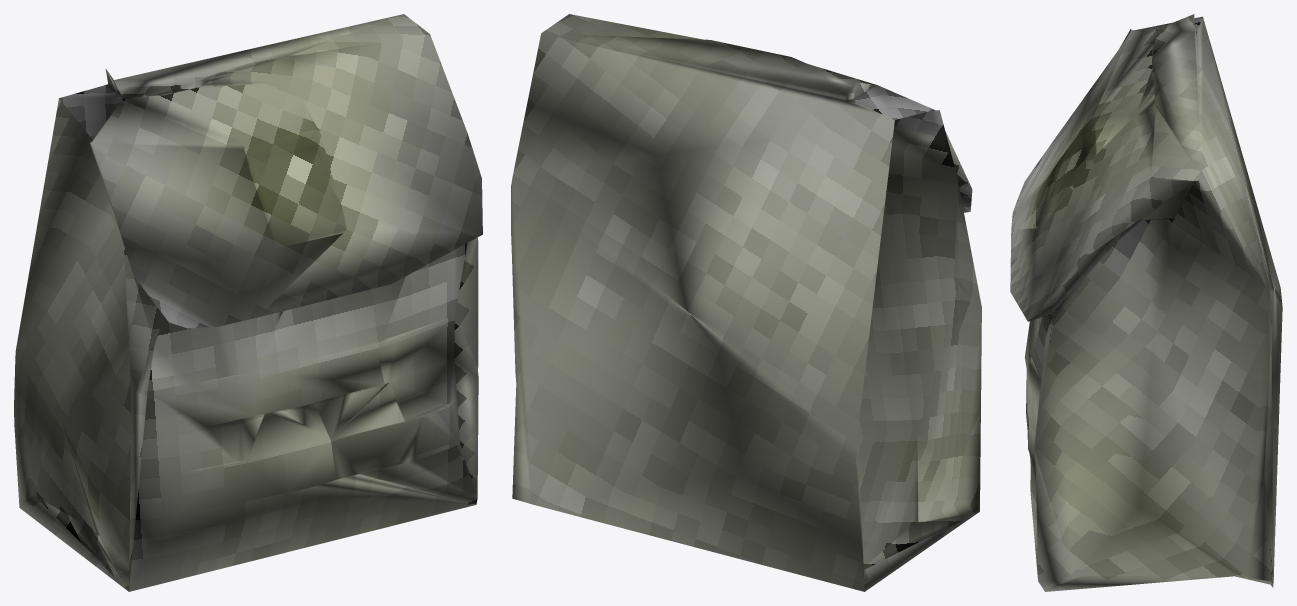
The model's file is US_Army_Stash_Lunch_Bag-low.glb.
The picture shows the model from 3 angles, left to right: view 1: azimuth 30°, elevation 25°; view 2: azimuth 150°, elevation 25°; view 3: azimuth 270°, elevation 25°; orthographic projection. The views are drawn at different scales.
Parts seen in each view (by area): view 1: US_Army_Stash_Lunch_Bag; view 2: US_Army_Stash_Lunch_Bag; view 3: US_Army_Stash_Lunch_Bag.
Part boxes in pixels (x1=…): US_Army_Stash_Lunch_Bag: x1=14, y1=14, x2=482, y2=591; US_Army_Stash_Lunch_Bag: x1=511, y1=14, x2=981, y2=591; US_Army_Stash_Lunch_Bag: x1=1010, y1=14, x2=1282, y2=591.
Size of the model in its own units: 0.224 by 0.2729 by 0.1511.
Materials: 1 (1 with a texture image).
